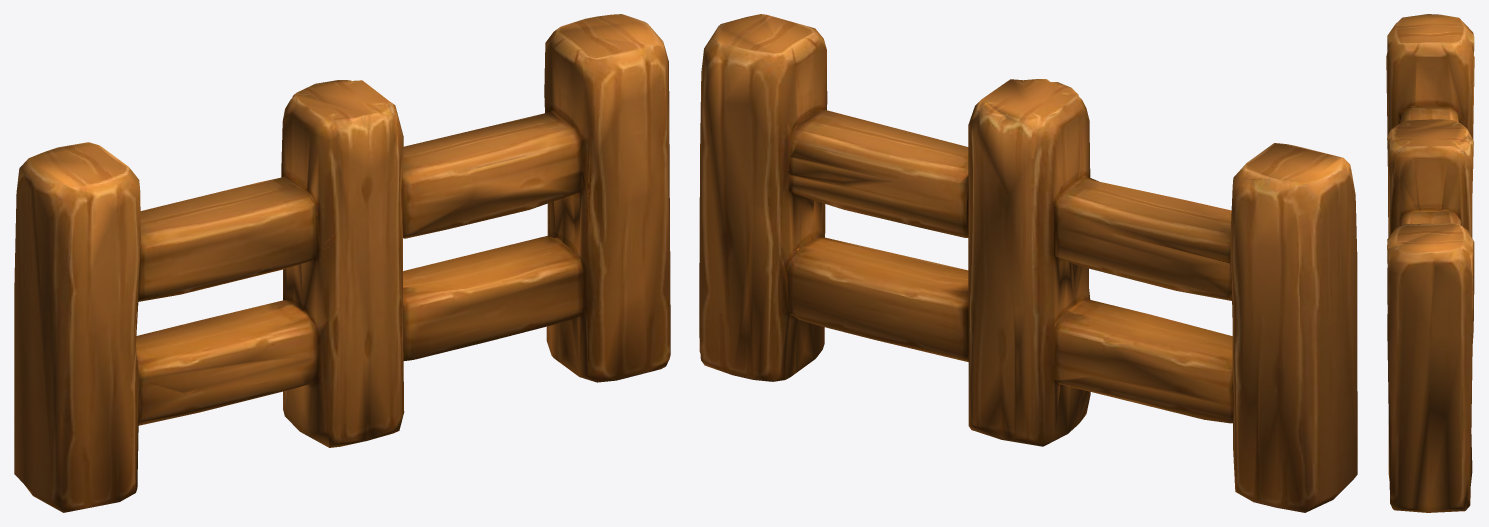
Rendered from fence.glb.
3 renders of one model, left to right at view 1: azimuth 30°, elevation 25°; view 2: azimuth 150°, elevation 25°; view 3: azimuth 270°, elevation 25°, orthographic. The views are drawn at different scales.
Visible parts, largest first — view 1: Mesh1.0; view 2: Mesh1.0; view 3: Mesh1.0.
Boxes of the visible parts, x1,y1,x2,y2 form: Mesh1.0: (14, 14, 670, 512); Mesh1.0: (699, 14, 1357, 512); Mesh1.0: (1386, 14, 1474, 512).
Size of the model in its own units: 1.89 by 0.9445 by 0.2906.
Materials: 1 (1 with a texture image).
